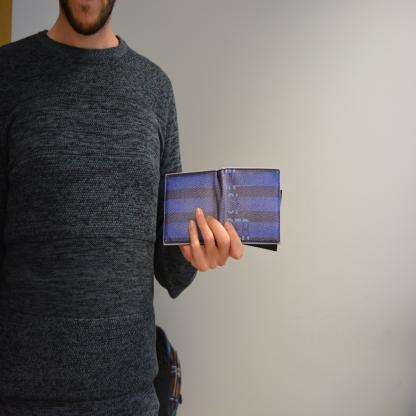monedero: (163, 166, 283, 252)
